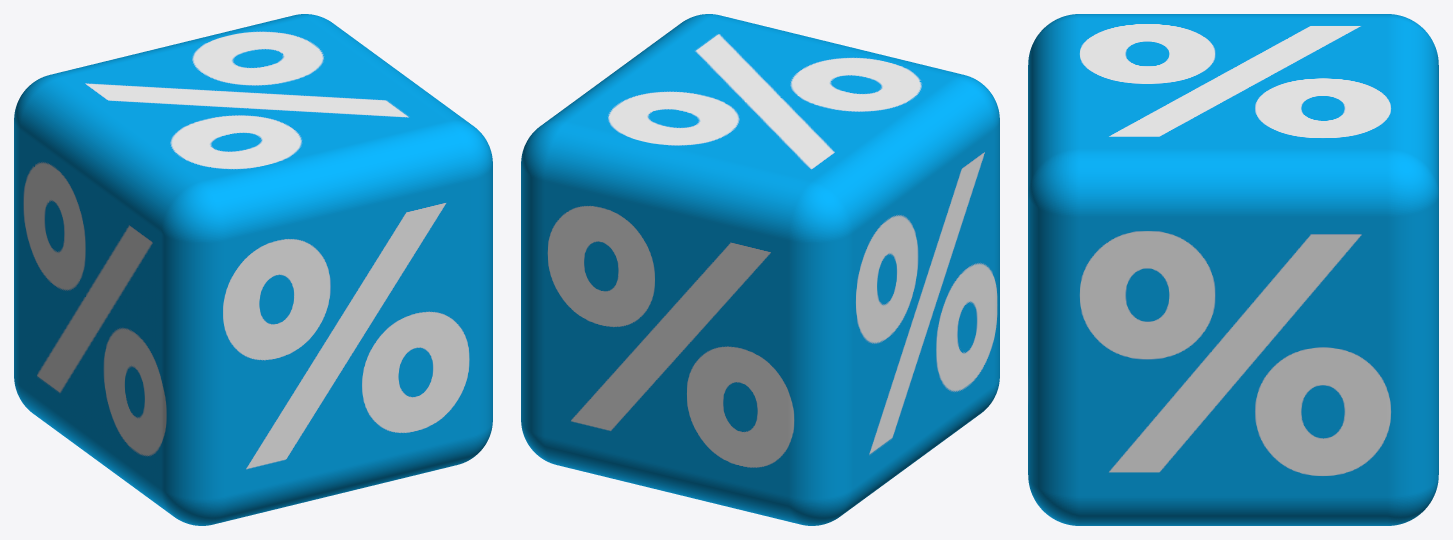
3 views of the same model, side by side, from view 1: azimuth 30°, elevation 25°; view 2: azimuth 150°, elevation 25°; view 3: azimuth 270°, elevation 25° (orthographic). The views are drawn at different scales.
Visible parts, largest first — view 1: Cube; view 2: Cube; view 3: Cube.
Boxes of the visible parts, bbox=[...] form: Cube: bbox=[14, 14, 492, 525]; Cube: bbox=[521, 14, 999, 525]; Cube: bbox=[1028, 14, 1438, 525].
Size of the model in its own units: 0.2202 by 0.2202 by 0.2202.
Materials: 1 (1 with a texture image).
